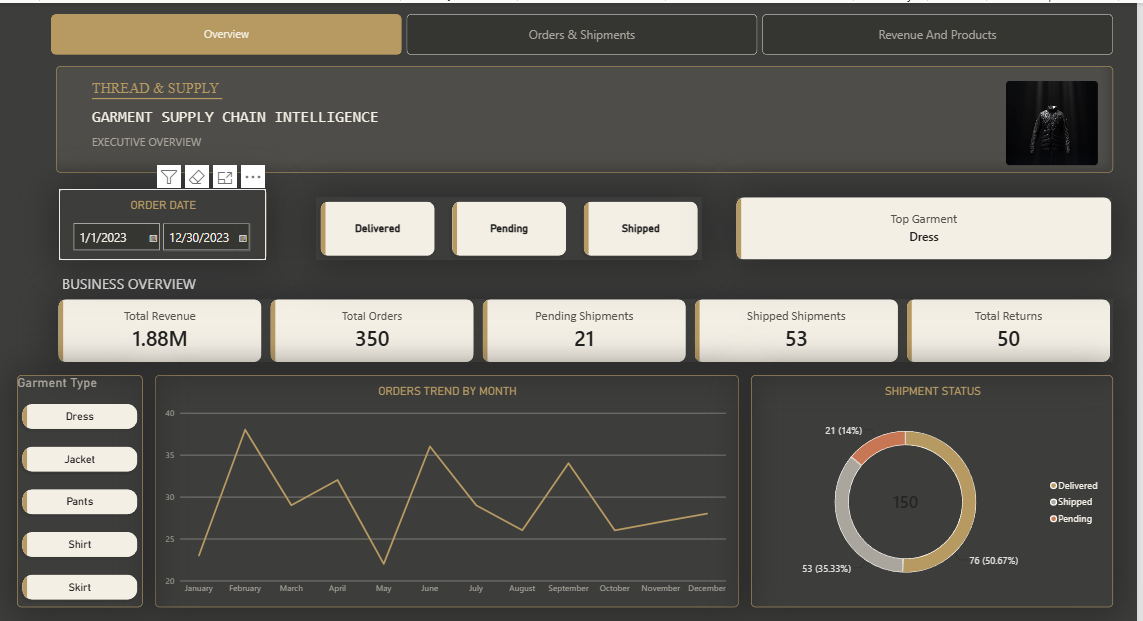

Layout of this report page (visuals, bound fields, positions):
{"tool":"powerbi","page":{"name":"Overview","canvas":[1920,1080],"ordinal":0},"visuals":[{"type":"cardVisual","fields":{"Data":["Garments.Total Garment Sales","Garments.Total Orders","Shipments.Pending Shipments","Shipments.Shipped Shipments","Returns.Total Returns"]},"box":[100.3,499.2,1780,107.3],"z":0},{"type":"shape","box":[95.6,107.1,1784.2,179.8],"z":1000},{"type":"image","box":[1700.1,132,154.9,141.5],"z":2000},{"type":"textbox","box":[156.8,132,241,28.7],"z":3000},{"type":"textbox","box":[156.8,175.9,552.7,45.9],"z":4000},{"type":"textbox","box":[156.8,221.8,256.3,34.4],"z":5000},{"type":"shape","box":[156.8,132,219.9,59.3],"z":6000},{"type":"textbox","box":[107.1,457.1,235.2,42.1],"z":7000},{"type":"lineChart","title":"ORDERS TREND BY MONTH","fields":{"Category":["Garments.order_date.Variation.Date Hierarchy.Year","Garments.order_date.Variation.Date Hierarchy.Month"],"Y":["Garments.Total Orders"]},"box":[263.6,627.6,984.9,392],"z":8000},{"type":"donutChart","title":"SHIPMENT STATUS","fields":{"Category":["Shipments.status"],"Y":["CountNonNull(Shipments.id)"]},"box":[1269.1,627.6,611.2,391.9],"z":9000},{"type":"slicer","title":"ORDER DATE","fields":{"Values":["Garments.order_date"]},"box":[101.4,313.6,350,120.5],"z":10000},{"type":"advancedSlicerVisual","fields":{"Values":["Shipments.status"]},"box":[535.5,327,652.1,107.1],"z":11000},{"type":"advancedSlicerVisual","title":"Garment Type","fields":{"Values":["Garments.garment_type"]},"box":[30.3,627.6,212.3,392],"z":12000},{"type":"pageNavigator","box":[87.8,18.6,1792.1,69.2],"z":13000},{"type":"cardVisual","fields":{"Data":["Garments.Top Garment"]},"box":[1244.3,326.9,634.1,107],"z":13001}]}

Visuals, with their boxes on the page's 1920x1080 design canvas (x1, y1, x2, y2). These are canvas units, not pixel positions in the 1143x621 screenshot, which may show the page scaled, cropped or inside an application window:
cardVisual - Garments.Total Garment Sales x Garments.Total Orders: x1=100 y1=499 x2=1880 y2=606
shape: x1=96 y1=107 x2=1880 y2=287
image: x1=1700 y1=132 x2=1855 y2=274
textbox: x1=157 y1=132 x2=398 y2=161
textbox: x1=157 y1=176 x2=710 y2=222
textbox: x1=157 y1=222 x2=413 y2=256
shape: x1=157 y1=132 x2=377 y2=191
textbox: x1=107 y1=457 x2=342 y2=499
"ORDERS TREND BY MONTH" lineChart: x1=264 y1=628 x2=1248 y2=1020
"SHIPMENT STATUS" donutChart: x1=1269 y1=628 x2=1880 y2=1020
"ORDER DATE" slicer: x1=101 y1=314 x2=451 y2=434
advancedSlicerVisual - Shipments.status: x1=536 y1=327 x2=1188 y2=434
"Garment Type" advancedSlicerVisual: x1=30 y1=628 x2=243 y2=1020
pageNavigator: x1=88 y1=19 x2=1880 y2=88
cardVisual - Garments.Top Garment: x1=1244 y1=327 x2=1878 y2=434
